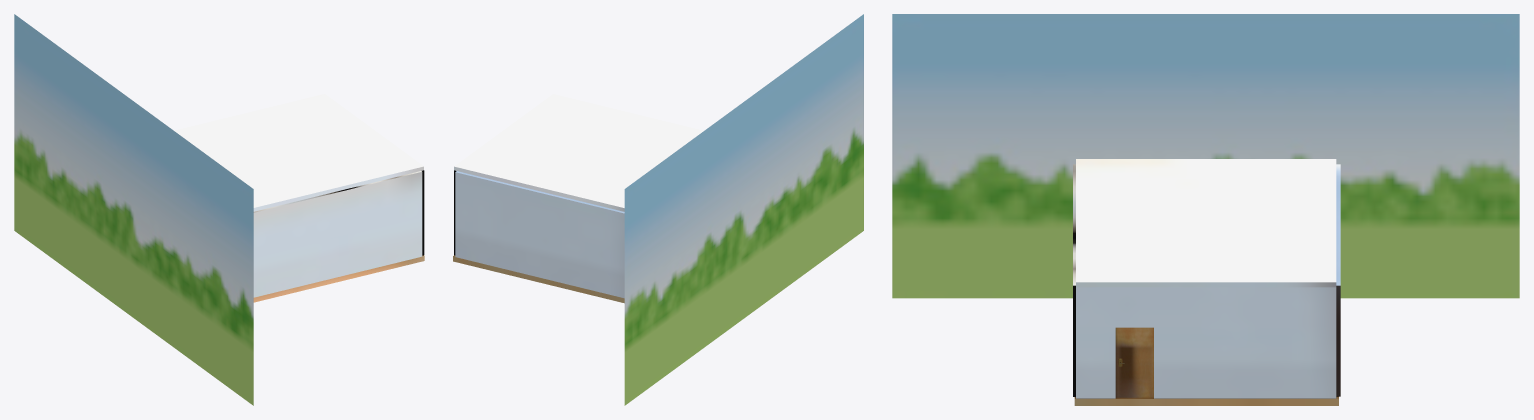
File: classroom2.glb
3 renders of one model, left to right at view 1: azimuth 30°, elevation 25°; view 2: azimuth 150°, elevation 25°; view 3: azimuth 270°, elevation 25°, orthographic. The views are drawn at different scales.
Parts seen in each view (by area): view 1: Exterieur, Cube.004, Mur derrière, Floor; view 2: Exterieur, Cube.004, Cube.003, Floor; view 3: Exterieur, Cube.004, MurPorte, Plane, Floor, Cube.003, Mur derrière.
Boxes of the visible parts, x1,y1,x2,y2 form: Exterieur: (14,14,253,405); Cube.004: (174,94,423,211); Mur derrière: (253,171,422,297); Floor: (253,255,424,302); Exterieur: (624,14,863,405); Cube.004: (454,94,703,211); Cube.003: (455,171,624,298); Floor: (453,255,624,303); Exterieur: (892,14,1519,298); Cube.004: (1076,159,1336,287); MurPorte: (1076,287,1336,398); Plane: (1115,327,1153,398); Floor: (1074,396,1338,405); Cube.003: (1336,164,1340,396); Mur derrière: (1073,164,1075,396).
Bounding box in the file's own units: 18.71 × 16 × 32.
Materials: 4 (4 with a texture image).
